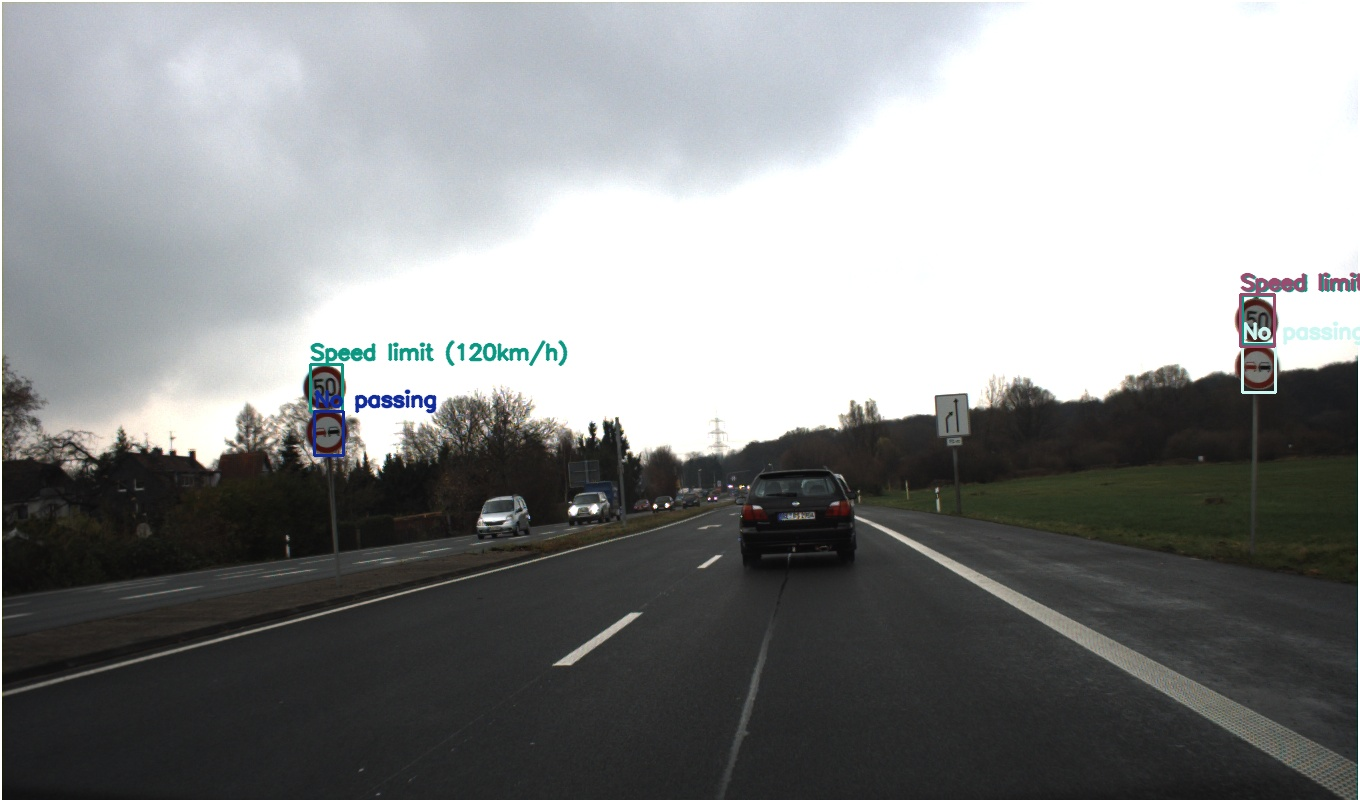General caution: (788, 411, 814, 436)
Priority road: (827, 412, 855, 441)
Speed limit (30km/h): (792, 439, 812, 458)
